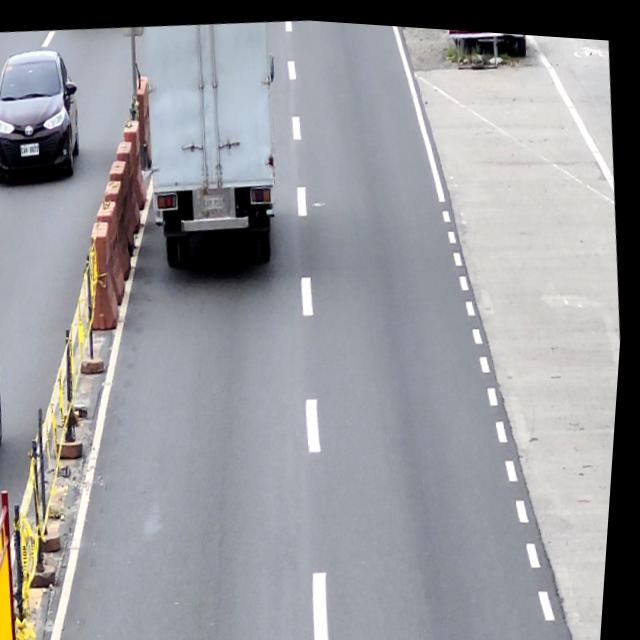Truck: (132, 11, 300, 277)
